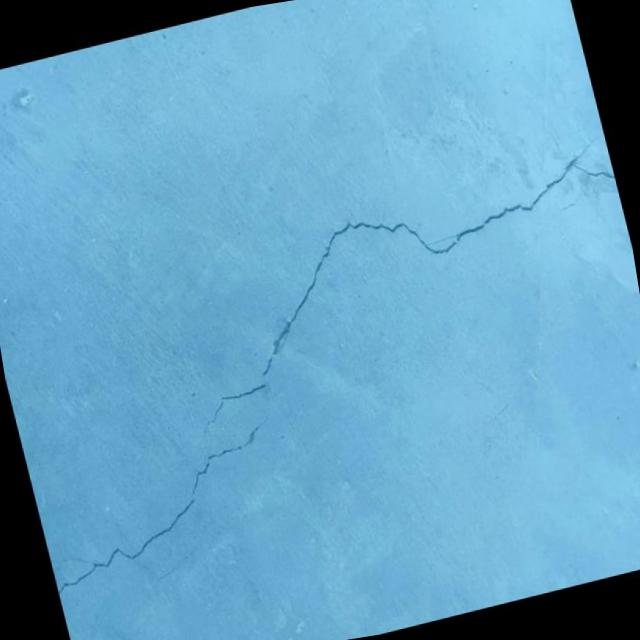crack: (149, 139, 640, 444), (26, 413, 305, 607)
